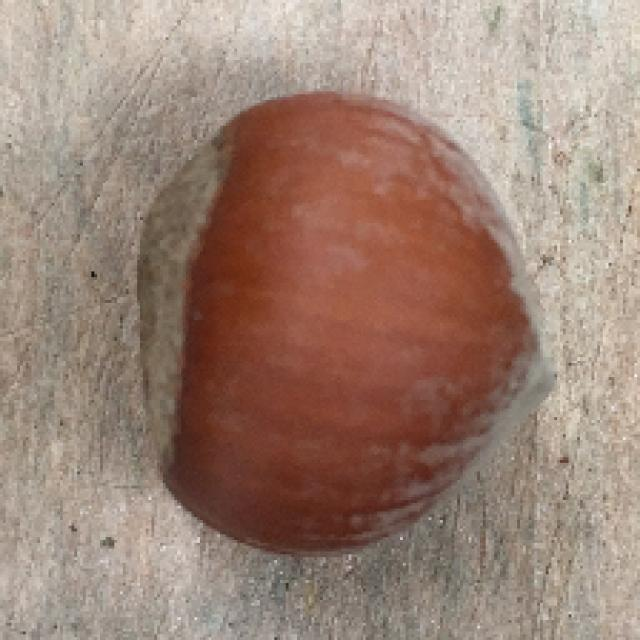hazelnut: (132, 85, 561, 549)
